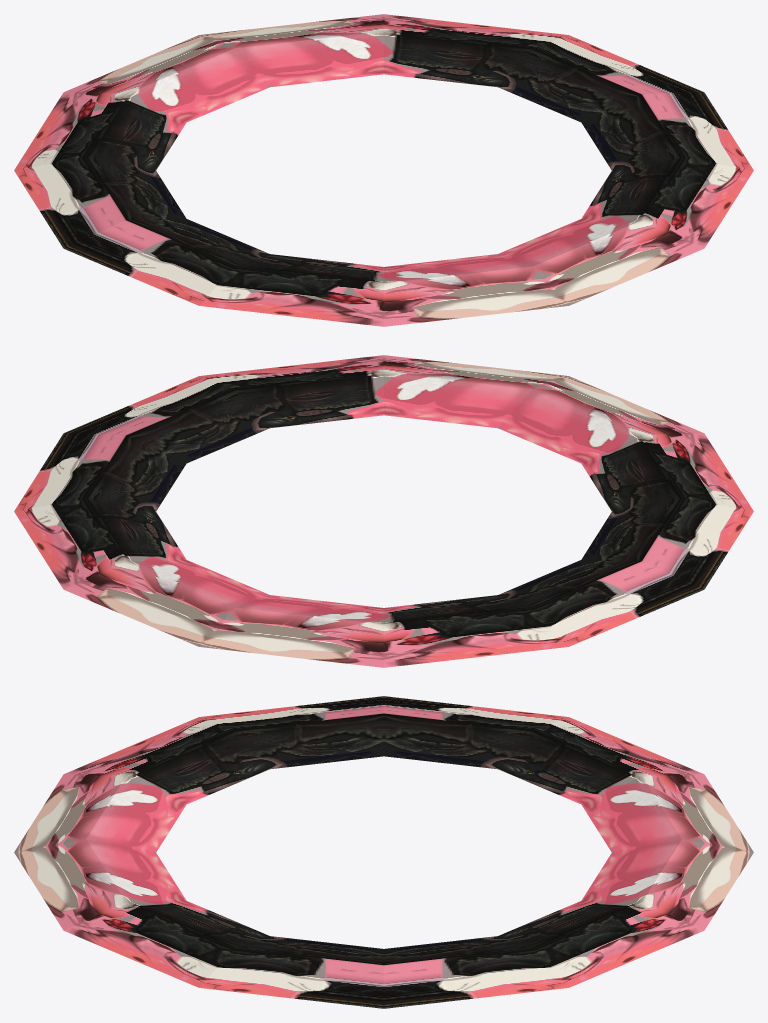
File: Rabbit_halo.obj
3 renders of one model, top to bottom at view 1: azimuth 30°, elevation 25°; view 2: azimuth 150°, elevation 25°; view 3: azimuth 270°, elevation 25°, orthographic.
Visible parts, largest first — view 1: Rabbit_halo_tri; view 2: Rabbit_halo_tri; view 3: Rabbit_halo_tri.
Part boxes in pixels (<box>): Rabbit_halo_tri: <box>14,14,753,326</box>; Rabbit_halo_tri: <box>14,355,753,667</box>; Rabbit_halo_tri: <box>14,696,753,1008</box>.
Bounding box in the file's own units: 0.2129 × 0.00836 × 0.2129.
Materials: 1 (1 with a texture image).
